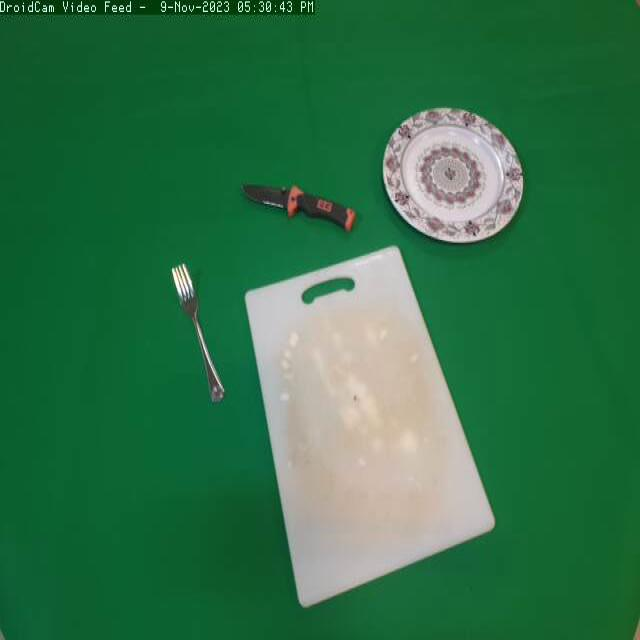cutting board: (238, 240, 508, 612)
fork: (162, 255, 231, 412)
knife: (238, 170, 366, 242)
plate: (379, 103, 533, 254)
